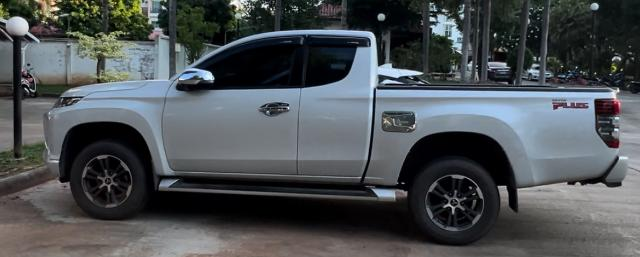pickup-truck: (42, 28, 628, 247)
